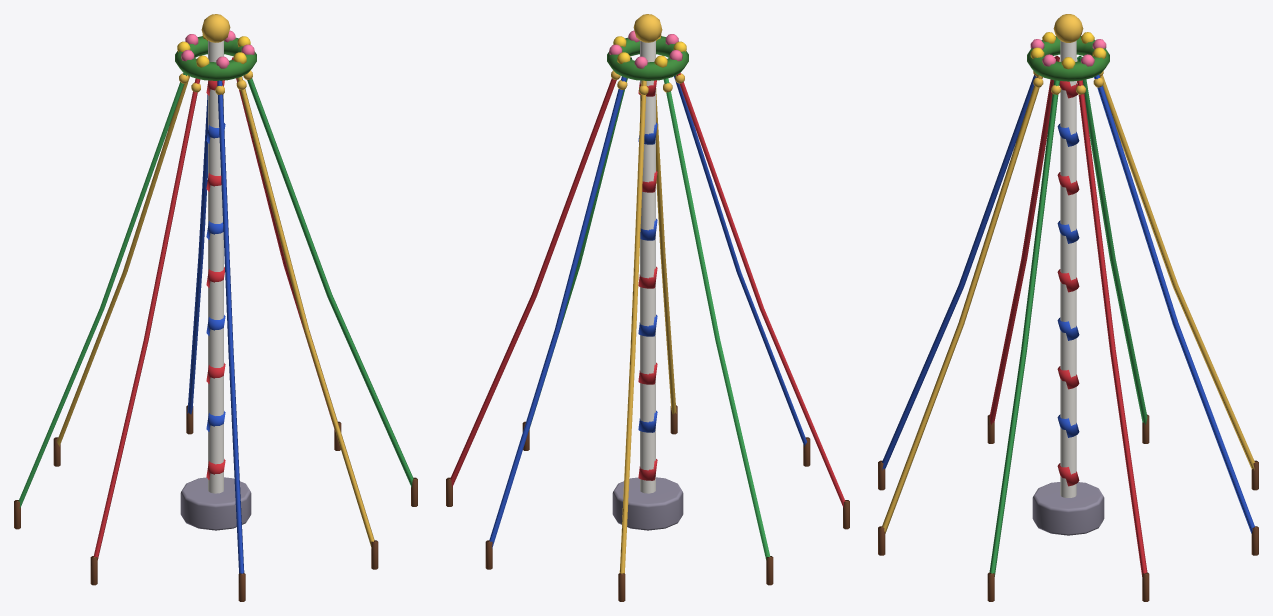
The model's file is faire_maypole.glb.
The picture shows the model from 3 angles, left to right: view 1: azimuth 30°, elevation 25°; view 2: azimuth 150°, elevation 25°; view 3: azimuth 270°, elevation 25°; orthographic projection.
Visible parts, largest first — view 1: Maypole; view 2: Maypole; view 3: Maypole.
Boxes of the visible parts, x1=… form: Maypole: x1=14, y1=14, x2=417, y2=601; Maypole: x1=446, y1=14, x2=849, y2=601; Maypole: x1=878, y1=14, x2=1258, y2=601.
Size of the model in its own units: 6.39 by 9.4 by 6.4.
